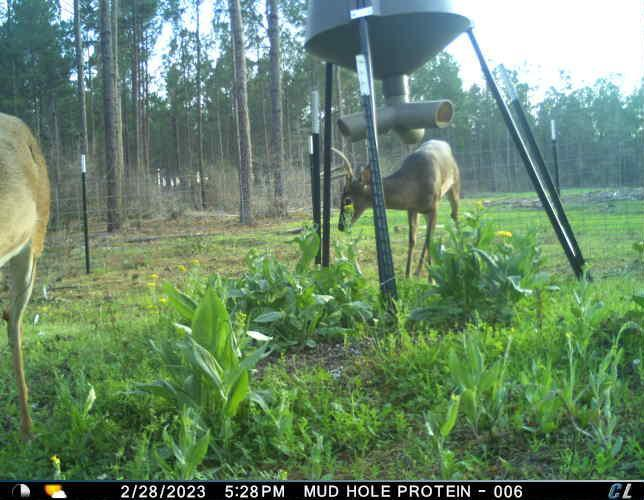Deer: (316, 139, 467, 284), (0, 106, 54, 438)
